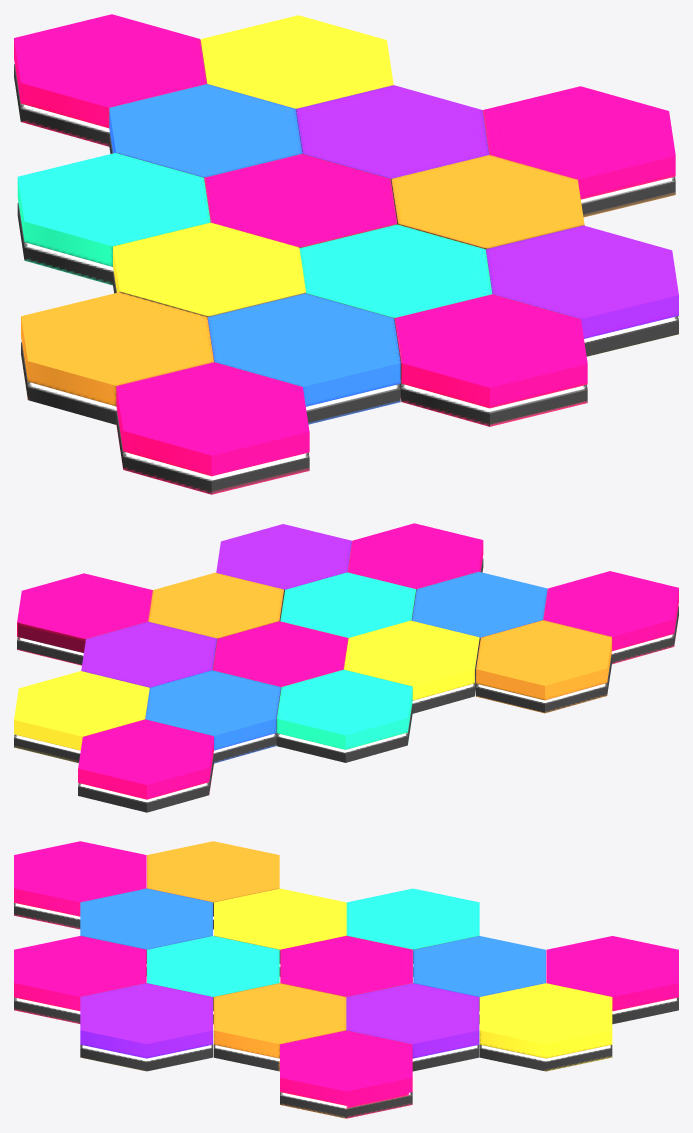
The model's file is AnaKaremOrtizPerez@PisoDiscoMultiple.fbx.
3 views of the same model, one above another, from view 1: azimuth 30°, elevation 25°; view 2: azimuth 150°, elevation 25°; view 3: azimuth 270°, elevation 25° (orthographic). The views are drawn at different scales.
Visible parts, largest first — view 1: Uvs6; view 2: Uvs6; view 3: Uvs6.
Boxes of the visible parts, x1,y1,x2,y2 form: Uvs6: (14,14,678,494); Uvs6: (14,523,678,812); Uvs6: (14,841,678,1118).
Size of the model in its own units: 54.72 by 2.81 by 61.36.
